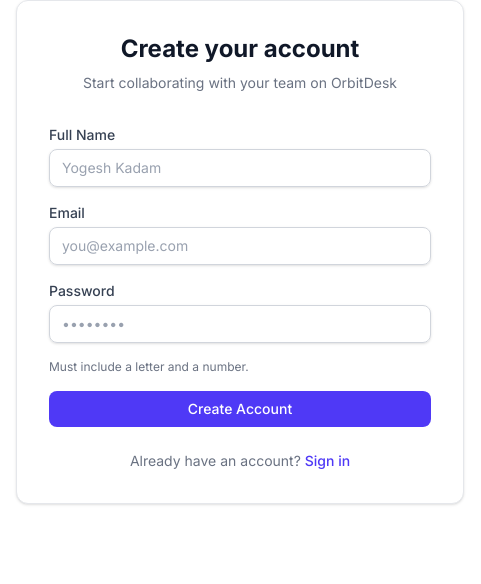
Test: RegisterForm › shows error on failed registration
Type "Alex Smith" into the field labelled "Full Name" at (240, 168), box 49,149 -> 431,187
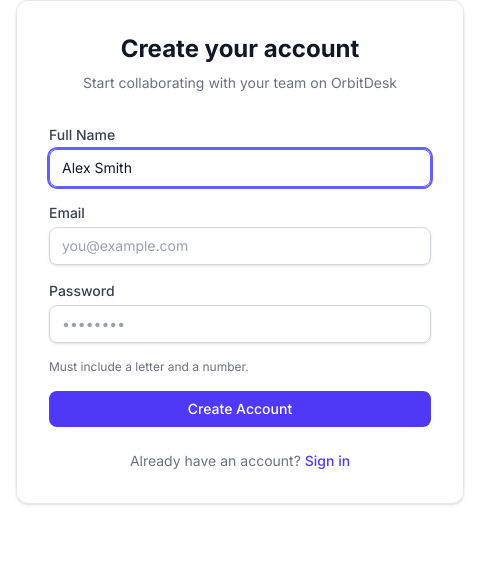
Type "alex@example.com" into the field labelled "Email" at (240, 246), box 49,227 -> 431,265
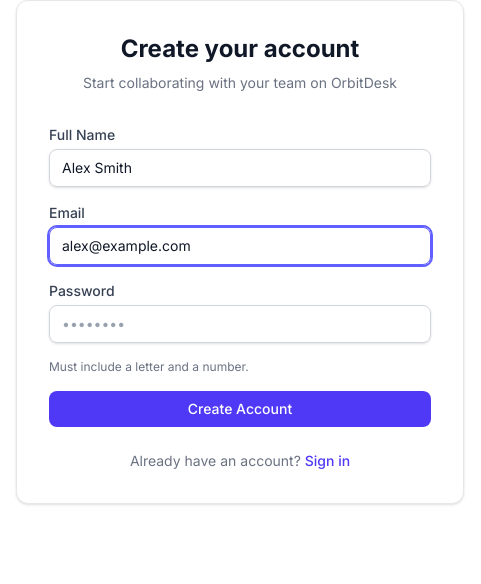
Type "password1" into the password field labelled "Password" at (240, 324), box 49,305 -> 431,343
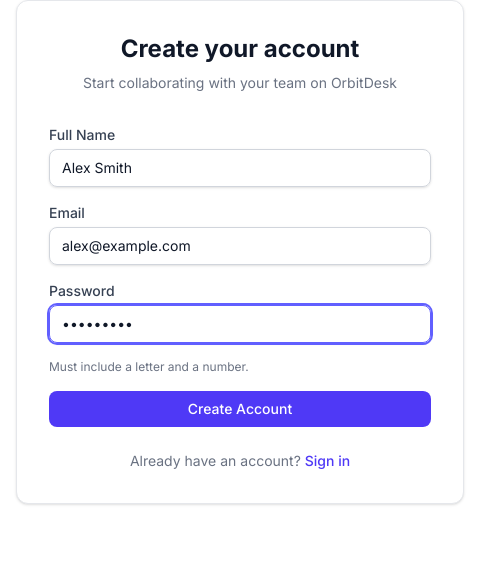
Click the button "Create Account" at (240, 409), box 49,391 -> 431,427
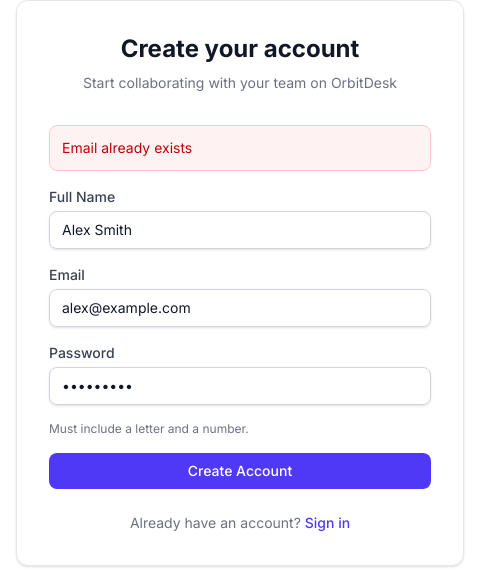
expect the text "Email already exists" is shown: met, box 49,125 -> 431,171
